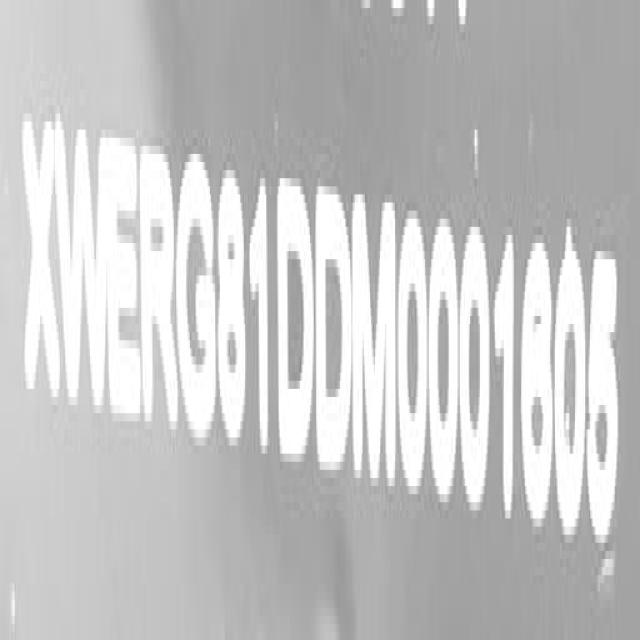0: (459, 212, 494, 523), (398, 195, 431, 510), (554, 229, 586, 548), (430, 200, 462, 516)
1: (250, 159, 275, 464), (496, 218, 518, 538)
5: (591, 234, 624, 553)
6: (518, 228, 554, 537)
8: (214, 156, 247, 462)
D: (276, 156, 314, 477), (315, 177, 352, 486)
E: (102, 123, 144, 444)
G: (176, 132, 218, 450)
M: (354, 181, 400, 501)
R: (138, 129, 179, 444)
W: (50, 102, 110, 440)
X: (21, 100, 61, 428)
